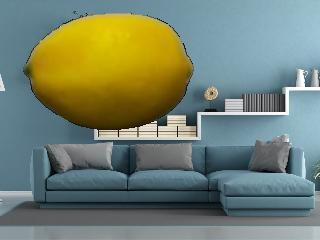lemon: (20, 7, 198, 132)
